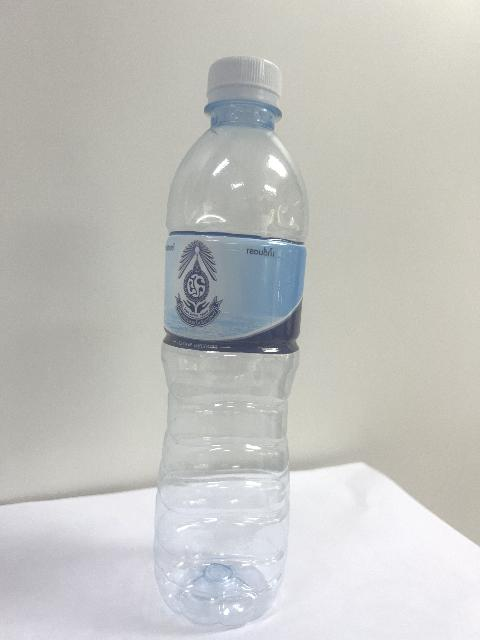bottle: (154, 57, 306, 625)
